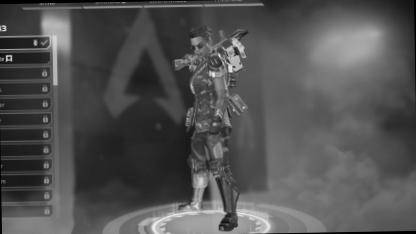Target: (186, 24, 230, 186)
